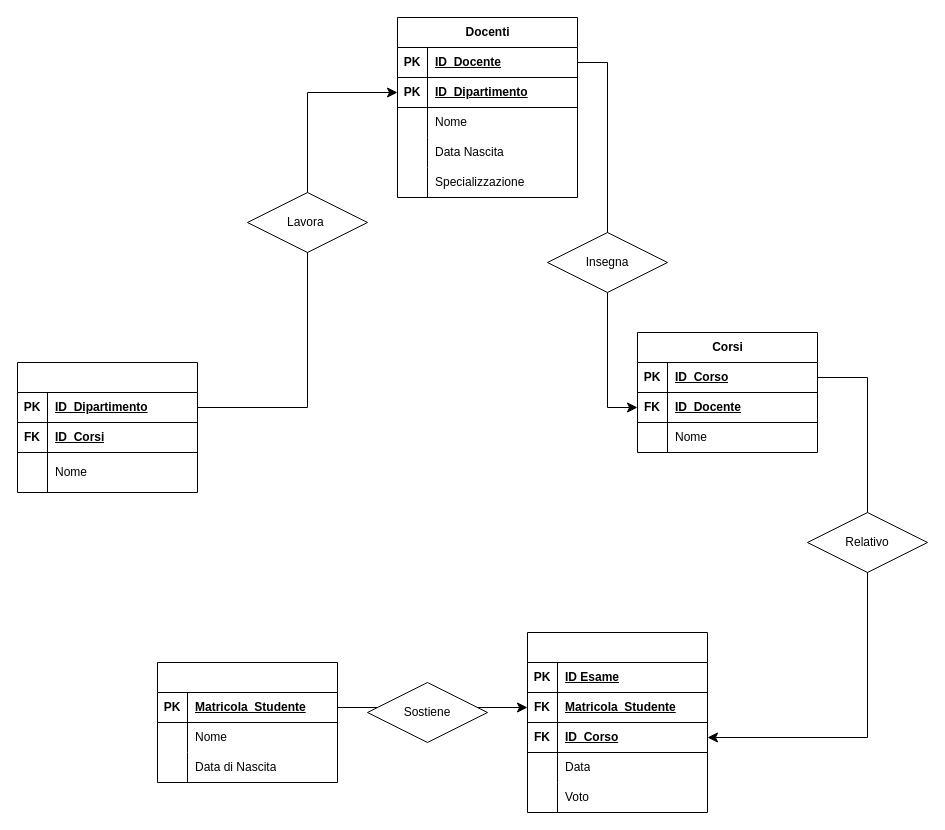
Image size: 945x830. Some labels were removed from this diagram. Each missing label, with the box of its shape:
Dipartimenti: (16, 362, 198, 492)
Esami: (526, 632, 708, 812)
Studenti: (156, 662, 338, 782)
